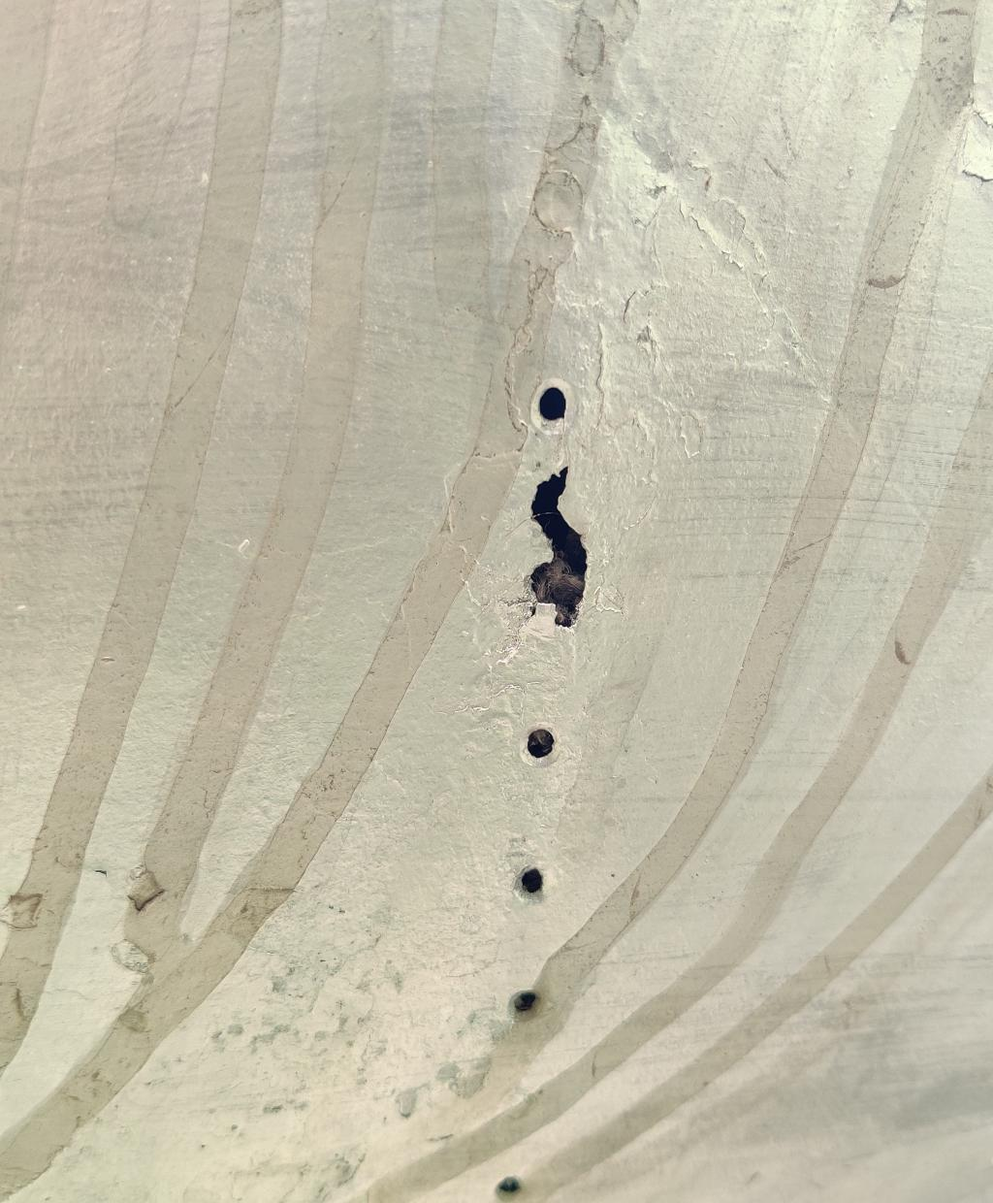crack: (483, 425, 632, 669)
